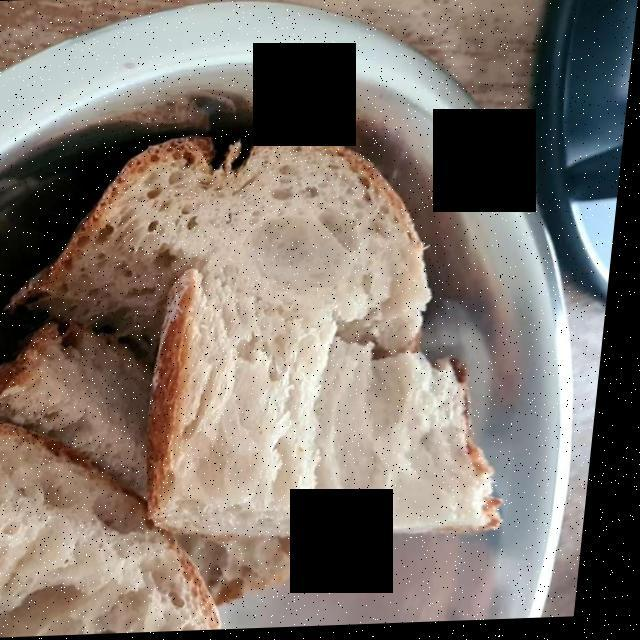bread: (0, 121, 484, 618)
